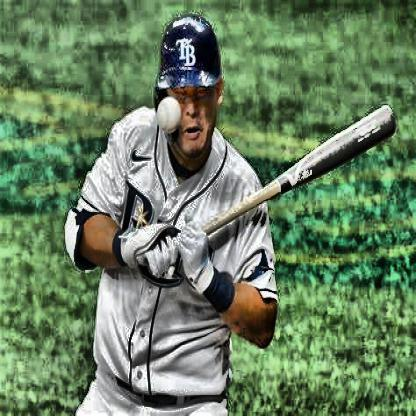baseball: (156, 99, 180, 134)
